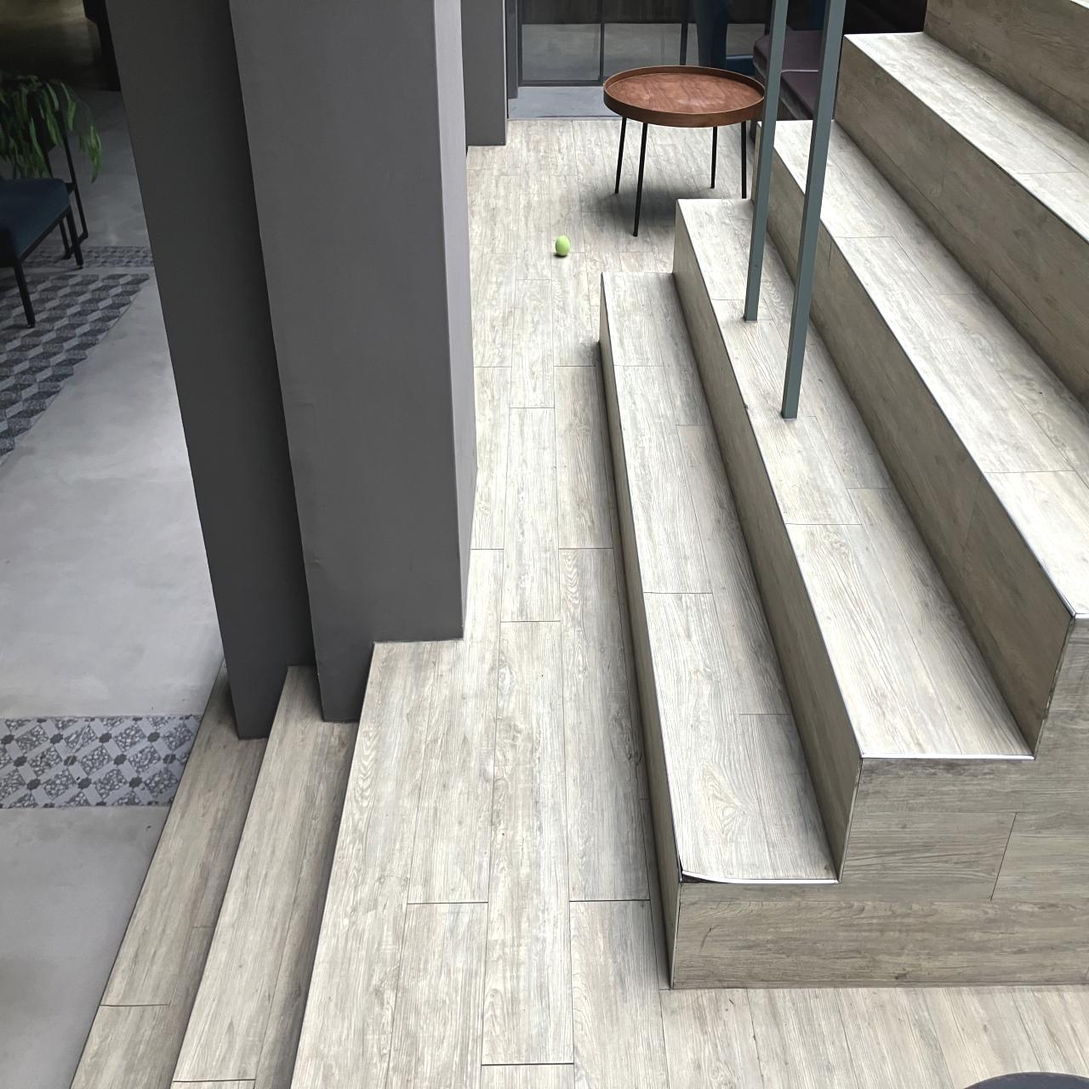tennisball: (556, 236, 570, 257)
